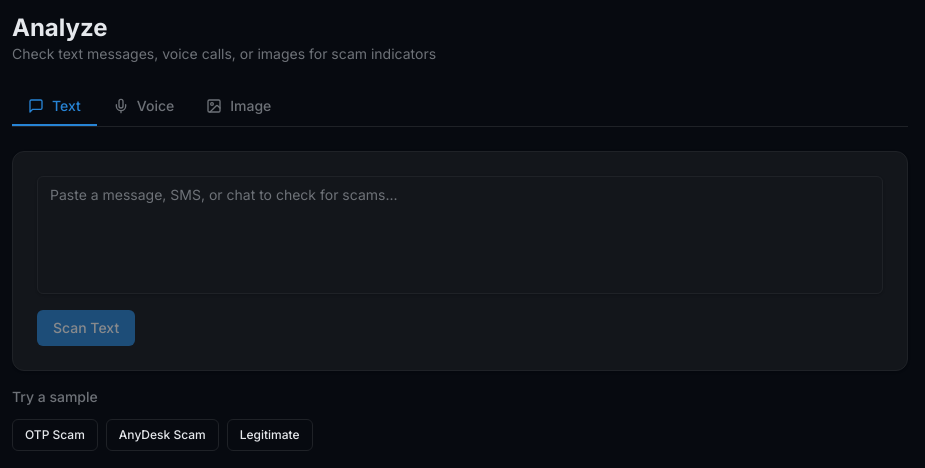
it: Analyze Page › switches to image tab
Click the button "Image" at (239, 107), box [190,88,287,126]
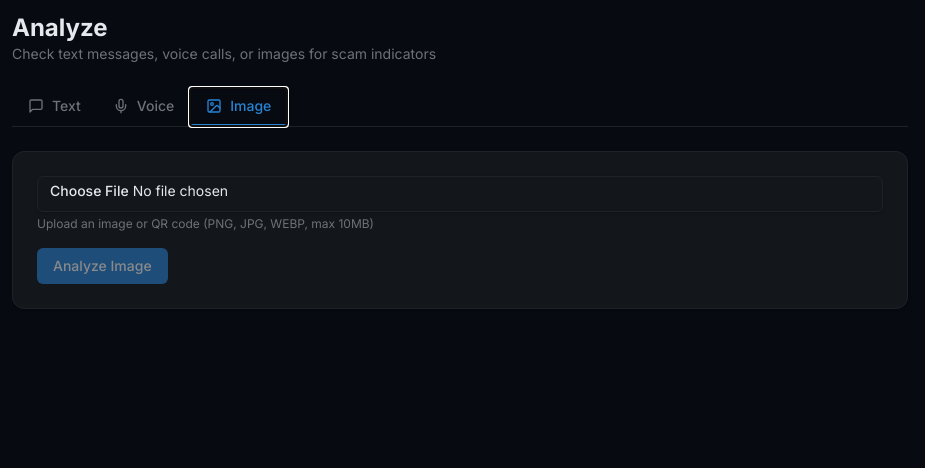
Result: the button "Analyze Image" is shown at [37,248,168,284]
Result: the text "Upload an image or QR code (PNG, JPG, WEBP, max 10MB)" is shown at [37,216,374,231]
